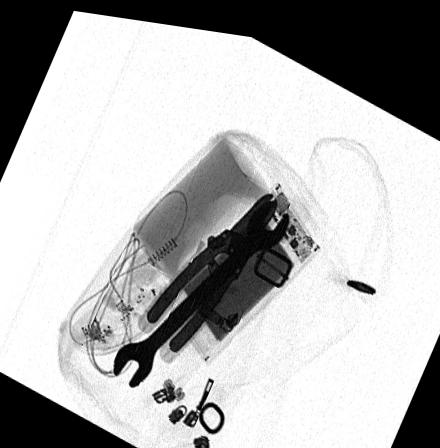Pliers: (142, 181, 279, 349)
Powerbank: (159, 173, 321, 356)
Wrench: (113, 190, 289, 383)
